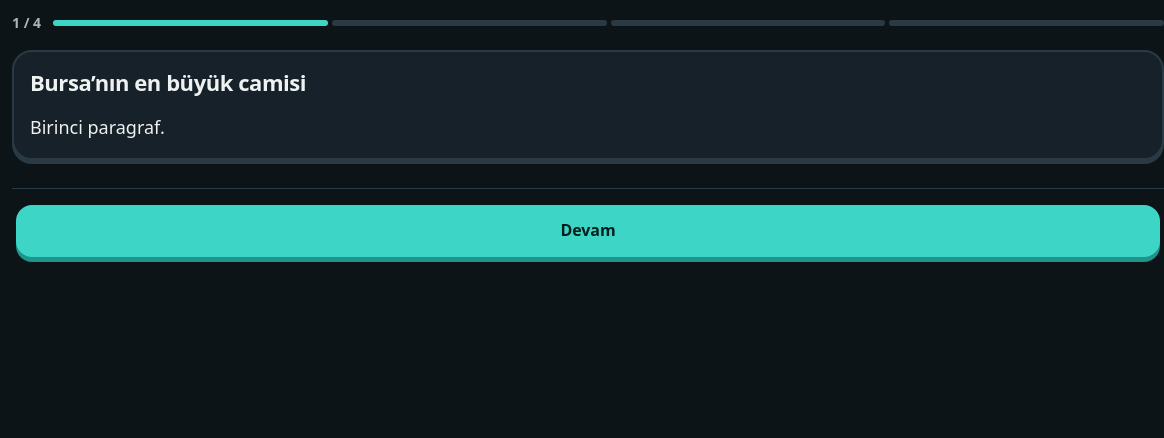
Test case: Bağlam adımı: okuma kartları › her paragrafı ayrı kartta gösterir, sonda kavramlar ve kapanış çıkar
Later steps or results of the test are not shown.
Expected: the text "Birinci paragraf." is shown, [30, 115, 165, 139]
Expected: the text "İkinci paragraf." is not shown
Step 1. Click the button "Devam" → [588, 231], box [16, 205, 1160, 257]
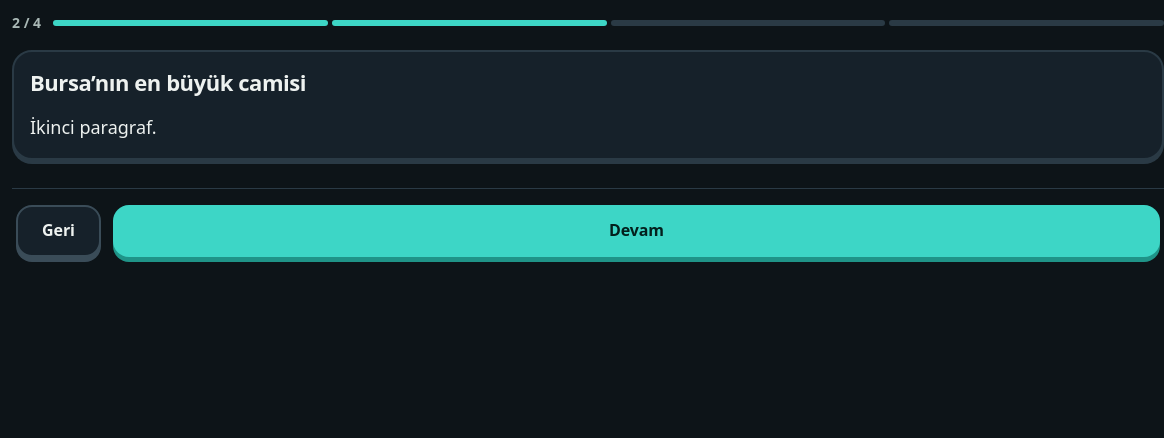
Expected: the text "İkinci paragraf." is shown, [30, 115, 157, 139]
Expected: the text "Birinci paragraf." is gone
Step 2. Click the button "Geri" → [58, 231], box [16, 205, 101, 257]
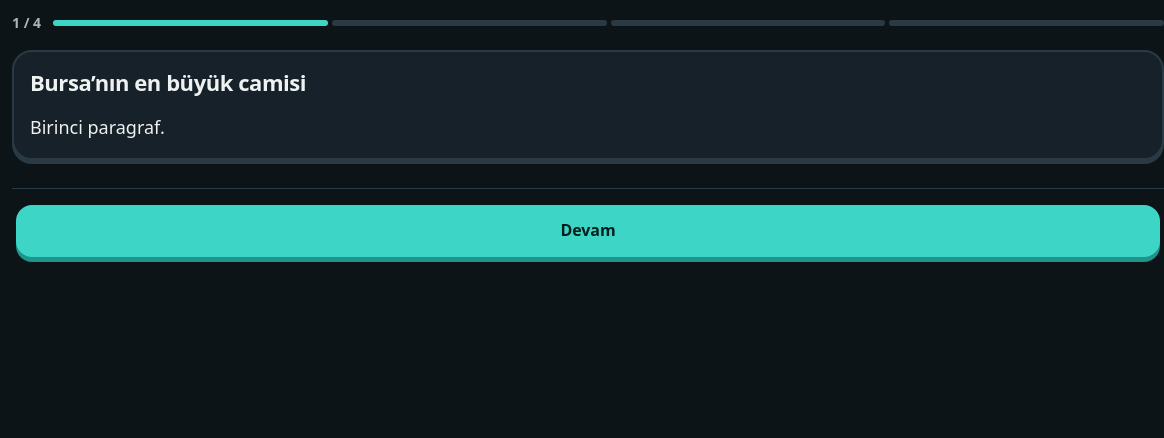
Expected: the text "Birinci paragraf." is shown, [30, 115, 165, 139]
Step 3. Click the button "Devam" → [588, 231], box [16, 205, 1160, 257]
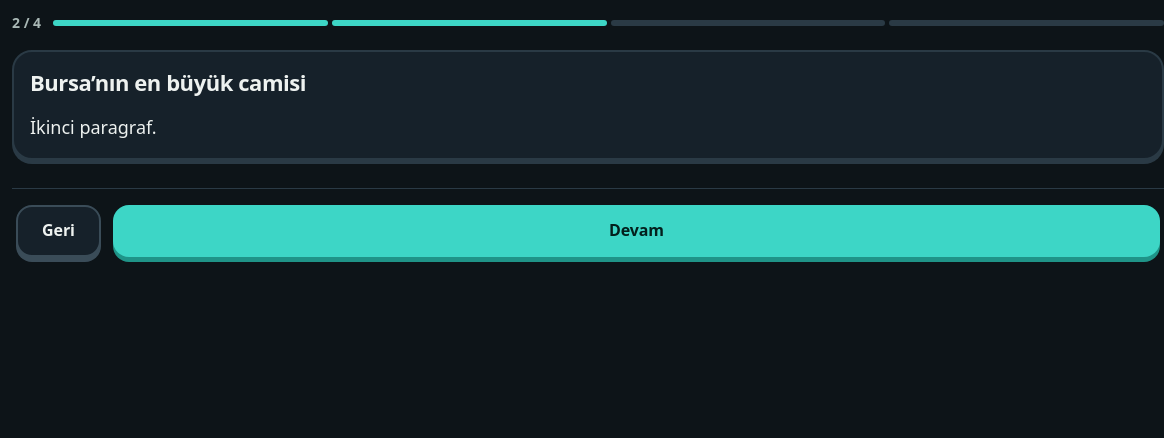
Step 4. Click the button "Devam" → [636, 231], box [113, 205, 1160, 257]
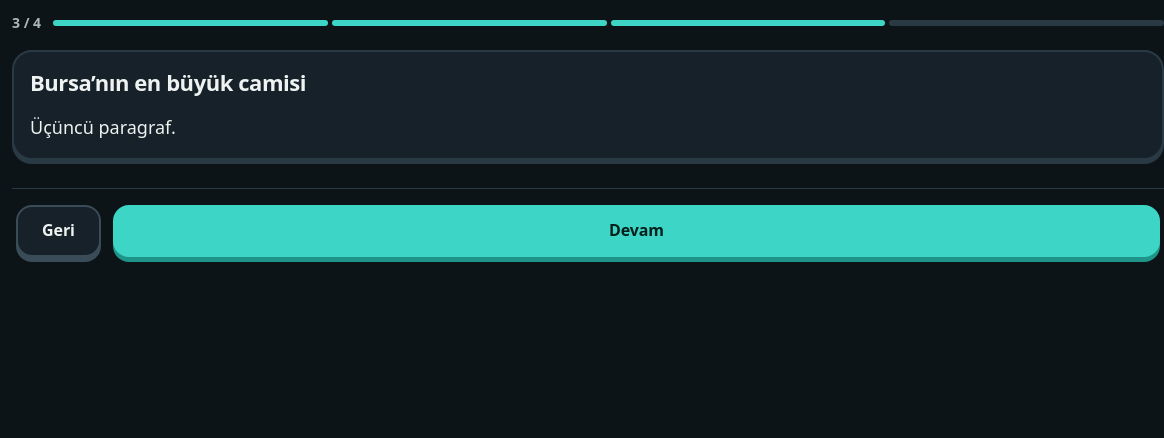
Step 5. Click the button "Devam" → [636, 231], box [113, 205, 1160, 257]
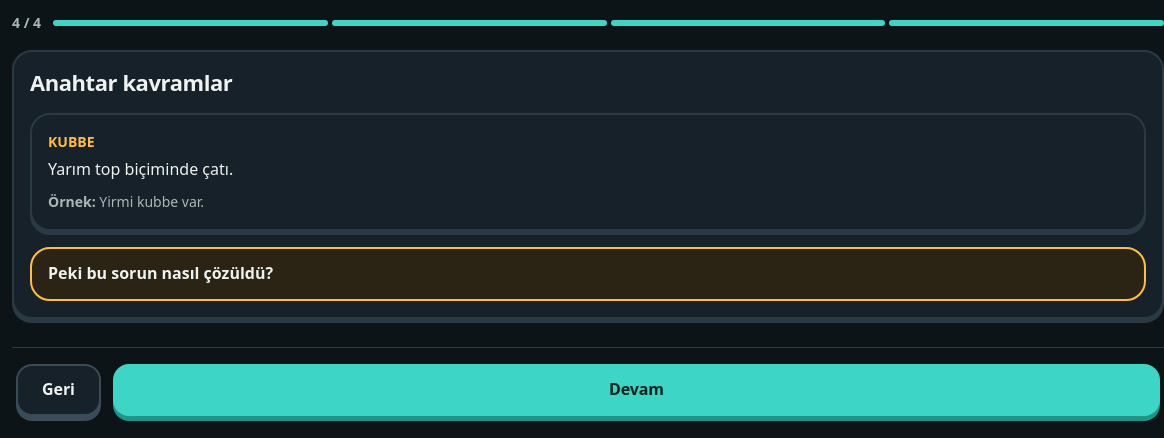
Expected: the heading "Anahtar kavramlar" is shown, [30, 67, 232, 97]
Expected: the text "KUBBE" is shown, [48, 132, 94, 151]
Expected: the text "Peki bu sorun nasıl çözüldü?" is shown, [30, 247, 1146, 301]
